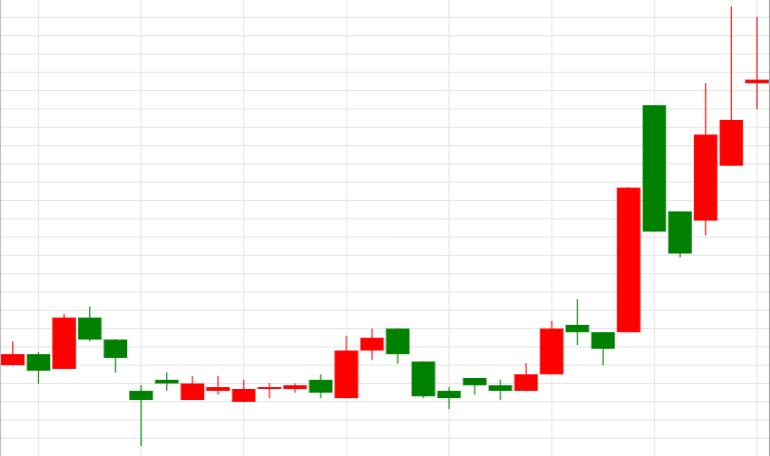shooting_star_fall: (514, 6, 744, 391)
